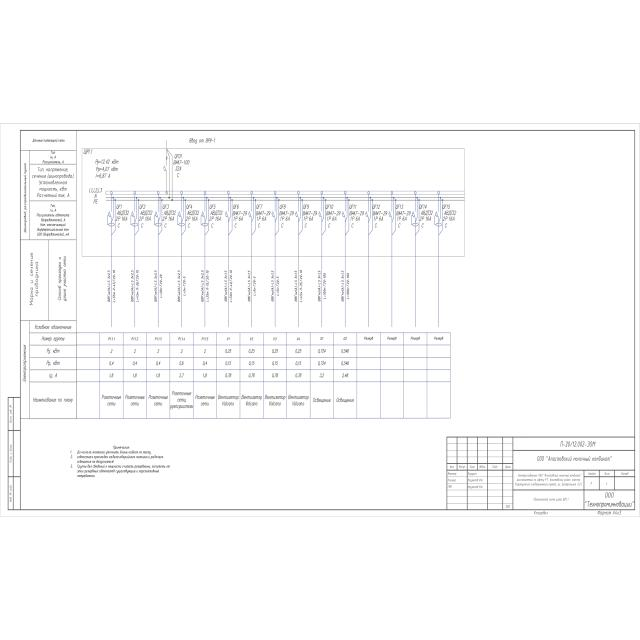-: (172, 159, 190, 173), (256, 210, 272, 222), (302, 209, 318, 221), (349, 210, 365, 222), (162, 209, 176, 222), (233, 210, 248, 222), (443, 210, 458, 222), (419, 210, 434, 222), (396, 210, 411, 222), (326, 210, 341, 222), (279, 210, 294, 222), (373, 210, 388, 222), (209, 210, 223, 222), (116, 210, 130, 222), (139, 210, 153, 222), (186, 211, 200, 222), (83, 148, 94, 156)
QF: (163, 155, 168, 174), (248, 209, 253, 219), (318, 209, 323, 219), (365, 209, 370, 219), (389, 208, 393, 219), (225, 208, 229, 219), (272, 209, 276, 219), (295, 209, 299, 219), (342, 209, 346, 219)
QFD: (152, 208, 162, 227), (176, 208, 185, 228), (130, 208, 139, 228), (106, 208, 115, 227), (433, 208, 442, 227), (410, 208, 419, 227), (200, 208, 209, 226)
